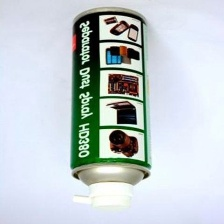aerosol_cans: (65, 5, 154, 214)
